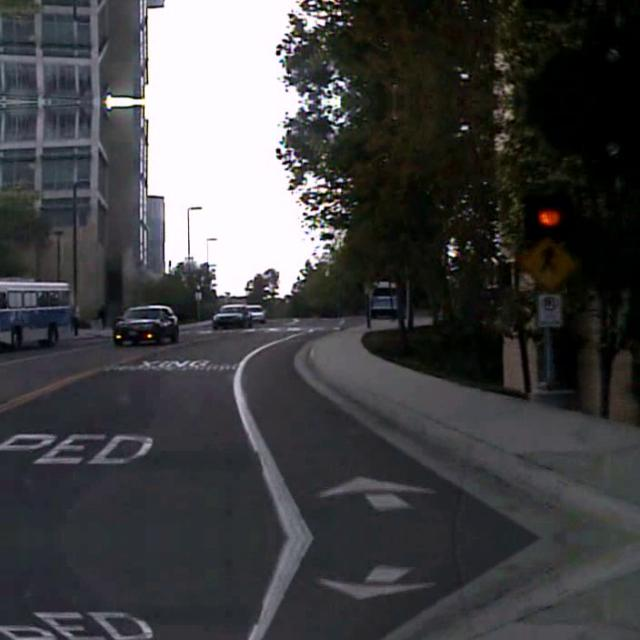pedestrianCrossing: (516, 233, 574, 289)
